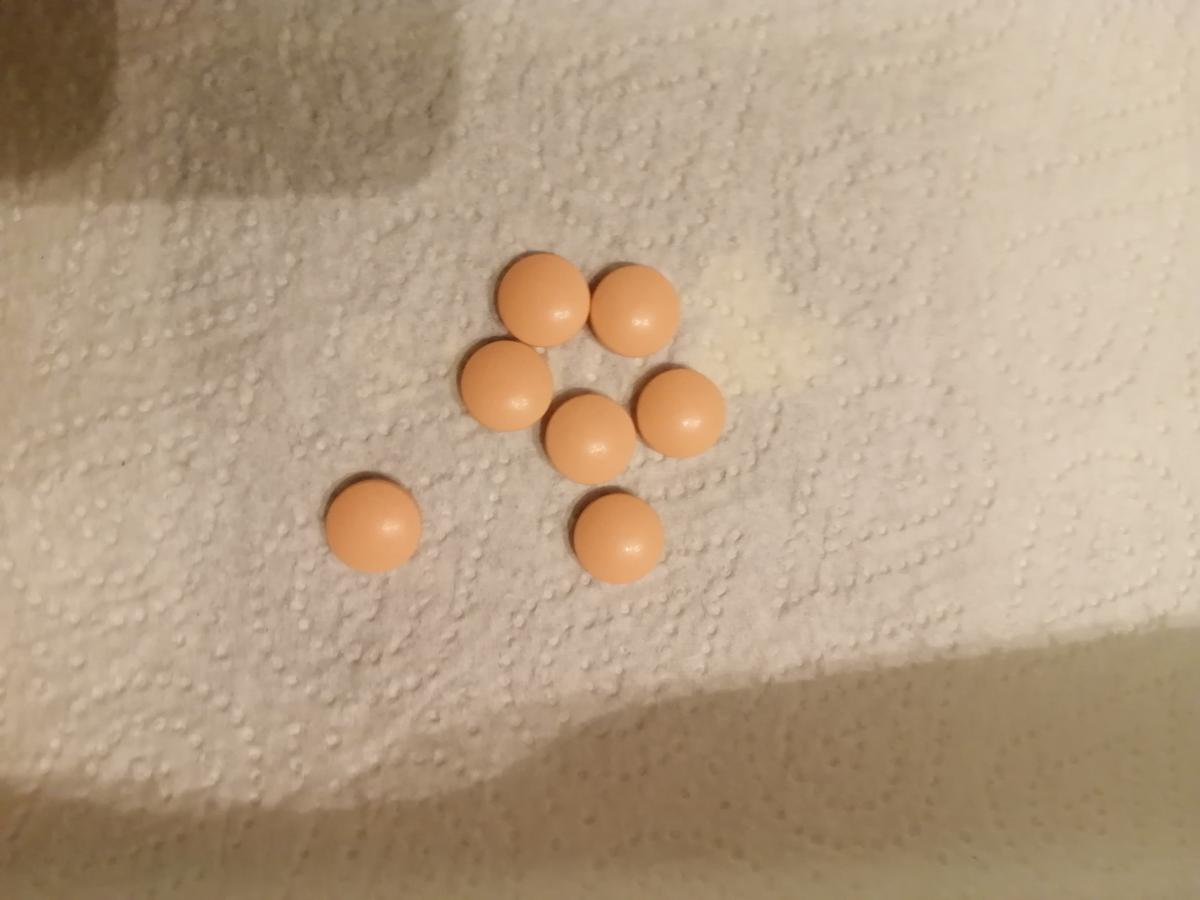tablet: (445, 328, 558, 441), (314, 467, 426, 577), (629, 360, 732, 462), (493, 249, 593, 348), (568, 486, 671, 582), (588, 258, 684, 358), (542, 393, 639, 486)
